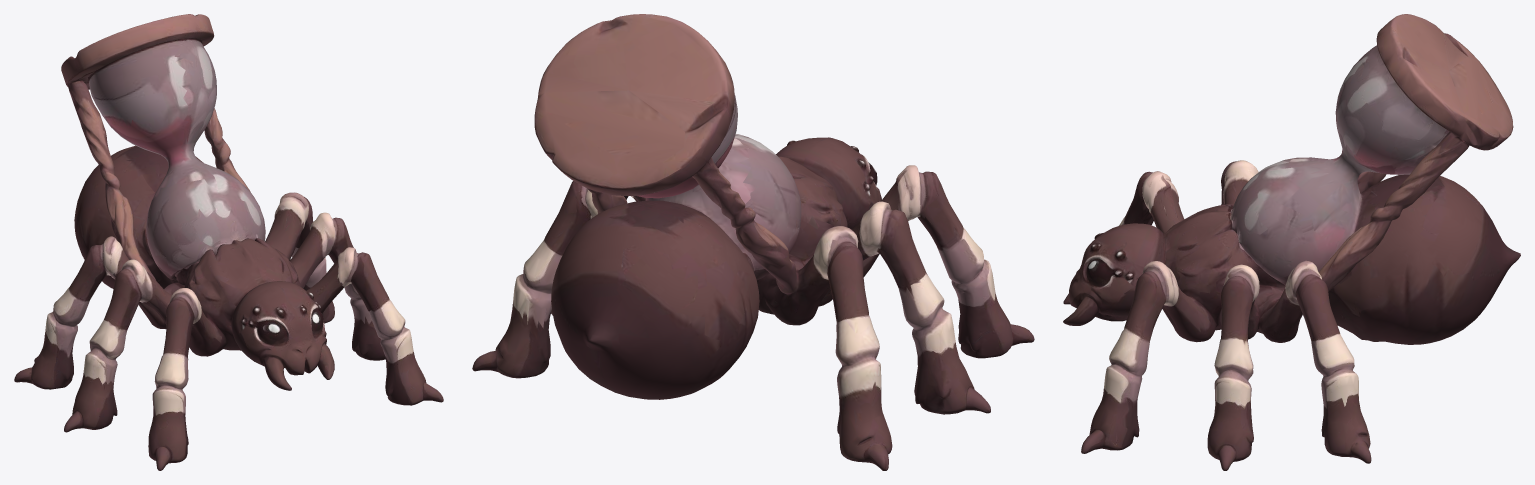
3 renders of one model, left to right at view 1: azimuth 30°, elevation 25°; view 2: azimuth 150°, elevation 25°; view 3: azimuth 270°, elevation 25°, orthographic. The views are drawn at different scales.
Parts seen in each view (by area): view 1: Mesh_0; view 2: Mesh_0; view 3: Mesh_0.
Boxes of the visible parts, left/top/right/bottom form: Mesh_0: left=14, top=14, right=443, bottom=470; Mesh_0: left=472, top=14, right=1034, bottom=470; Mesh_0: left=1063, top=14, right=1520, bottom=470.
Bounding box in the file's own units: 1.83 × 1.6 × 1.88.
1 material, 1 textured.
